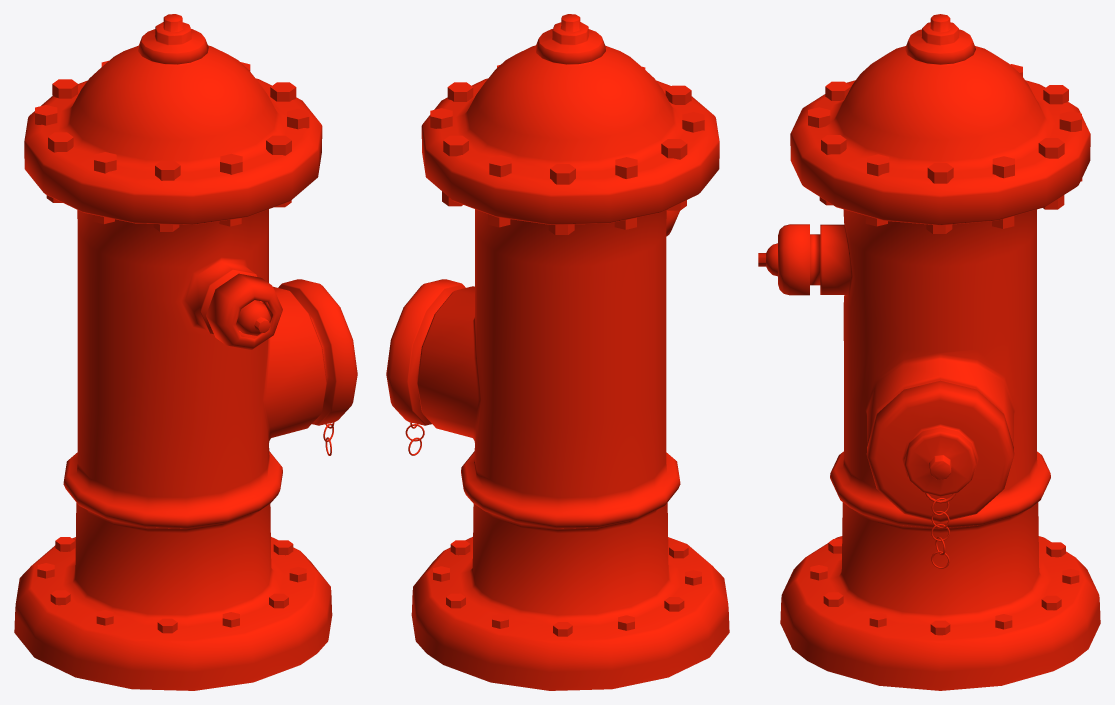
Rendered from YangınMusluğu.fbx.
The picture shows the model from 3 angles, left to right: view 1: azimuth 30°, elevation 25°; view 2: azimuth 150°, elevation 25°; view 3: azimuth 270°, elevation 25°; orthographic projection.
Parts seen in each view (by area): view 1: yangın musluğu; view 2: yangın musluğu; view 3: yangın musluğu.
Part boxes in pixels (<box>): yangın musluğu: <box>14,14,357,690</box>; yangın musluğu: <box>386,14,729,690</box>; yangın musluğu: <box>758,14,1100,690</box>.
Bounding box in the file's own units: 54.7 × 101 × 51.83.
